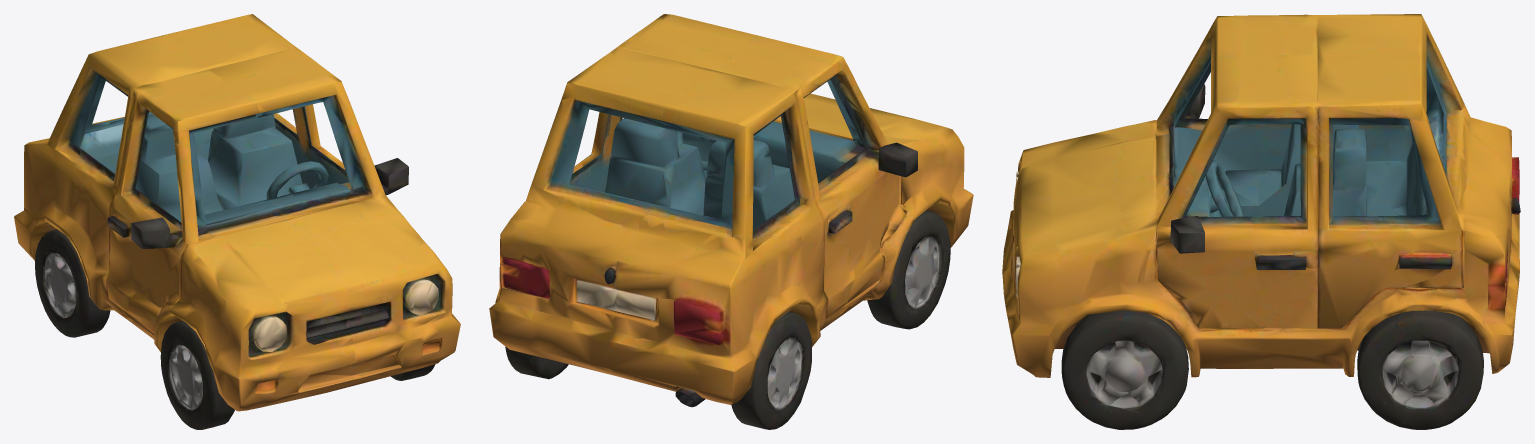
Rendered from auto.glb.
3 renders of one model, left to right at view 1: azimuth 30°, elevation 25°; view 2: azimuth 150°, elevation 25°; view 3: azimuth 270°, elevation 25°, orthographic. The views are drawn at different scales.
Parts seen in each view (by area): view 1: tripo_node_be5be772-8c3b-46f7-9ef0-600646efd1ba; view 2: tripo_node_be5be772-8c3b-46f7-9ef0-600646efd1ba; view 3: tripo_node_be5be772-8c3b-46f7-9ef0-600646efd1ba.
Boxes of the visible parts, x1,y1,x2,y2 form: tripo_node_be5be772-8c3b-46f7-9ef0-600646efd1ba: [14, 14, 460, 429]; tripo_node_be5be772-8c3b-46f7-9ef0-600646efd1ba: [489, 14, 973, 429]; tripo_node_be5be772-8c3b-46f7-9ef0-600646efd1ba: [1002, 14, 1520, 429].
Bounding box in the file's own units: 0.6659 × 0.6469 × 0.9796.
1 material, 1 textured.
